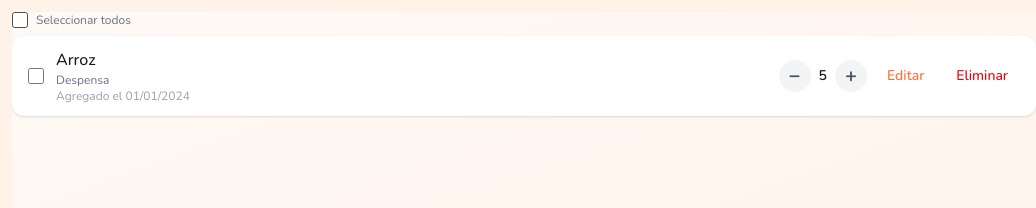
Scenario: ProductList — bulk delete › shows "Eliminar seleccionados" button when a checkbox is selected
The image size is (1036, 208).
Click the checkbox named "Seleccionar Arroz" at (36, 76), box [28,68,44,84]
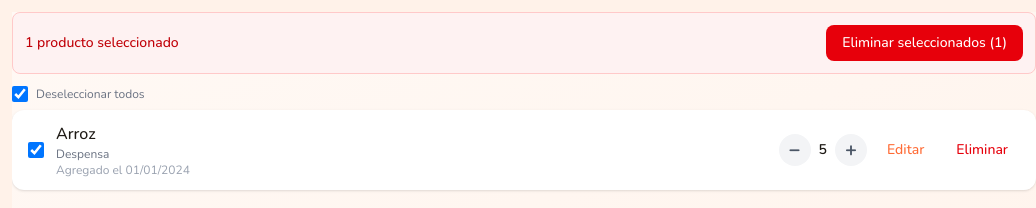
Expected: the button "Eliminar seleccionados (1)" is shown, [826,25,1023,61]
